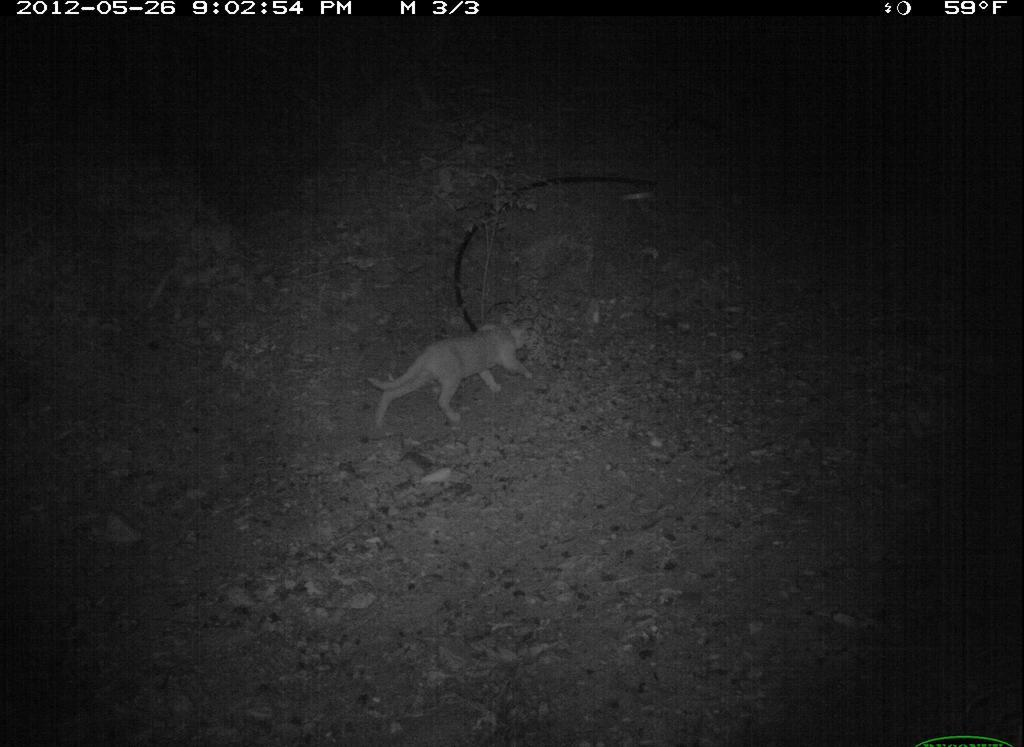cat: (360, 314, 547, 434)
